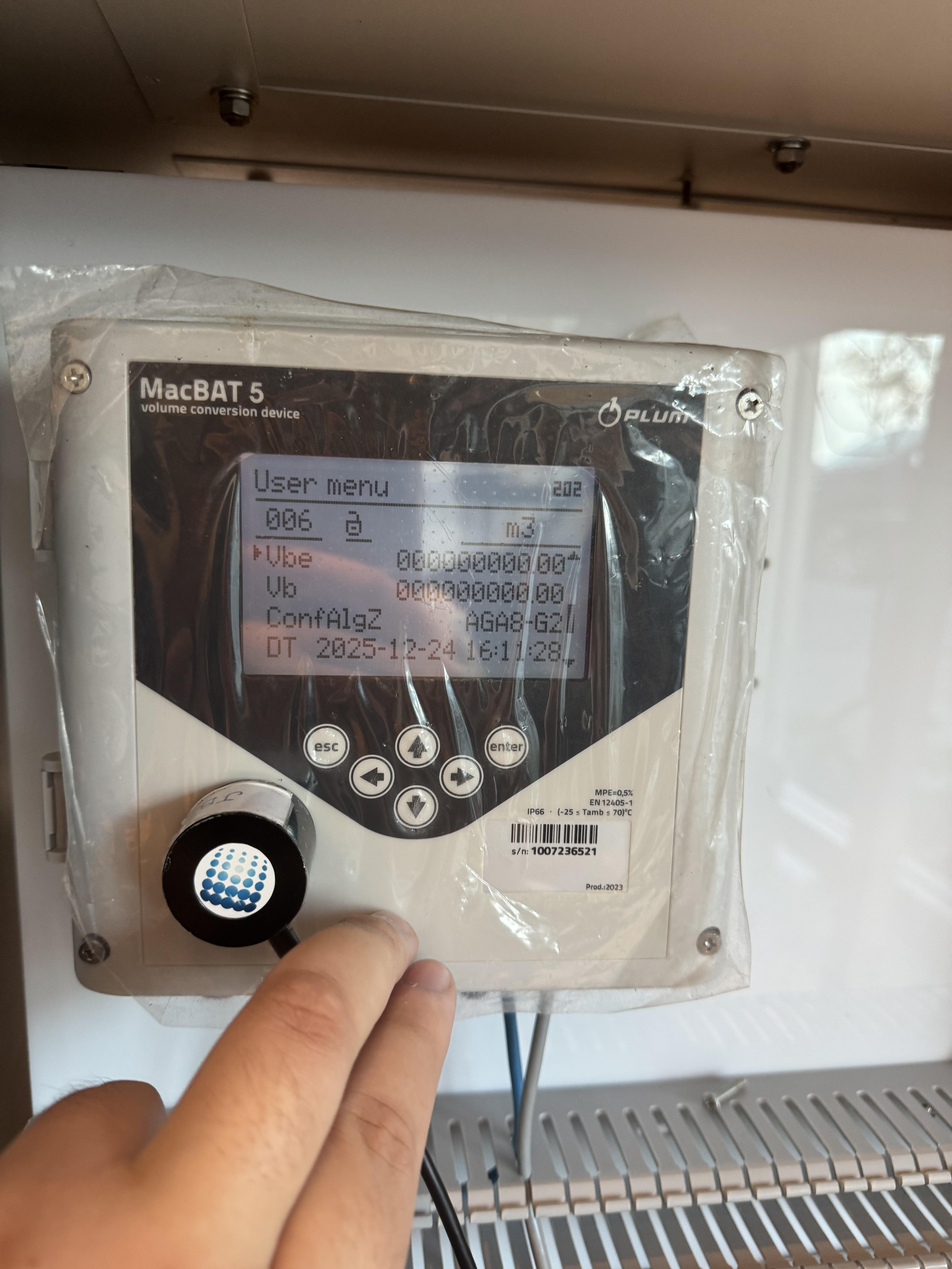digital_screen: (239, 453, 595, 680)
